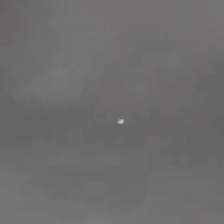Target: (117, 119, 124, 124)
